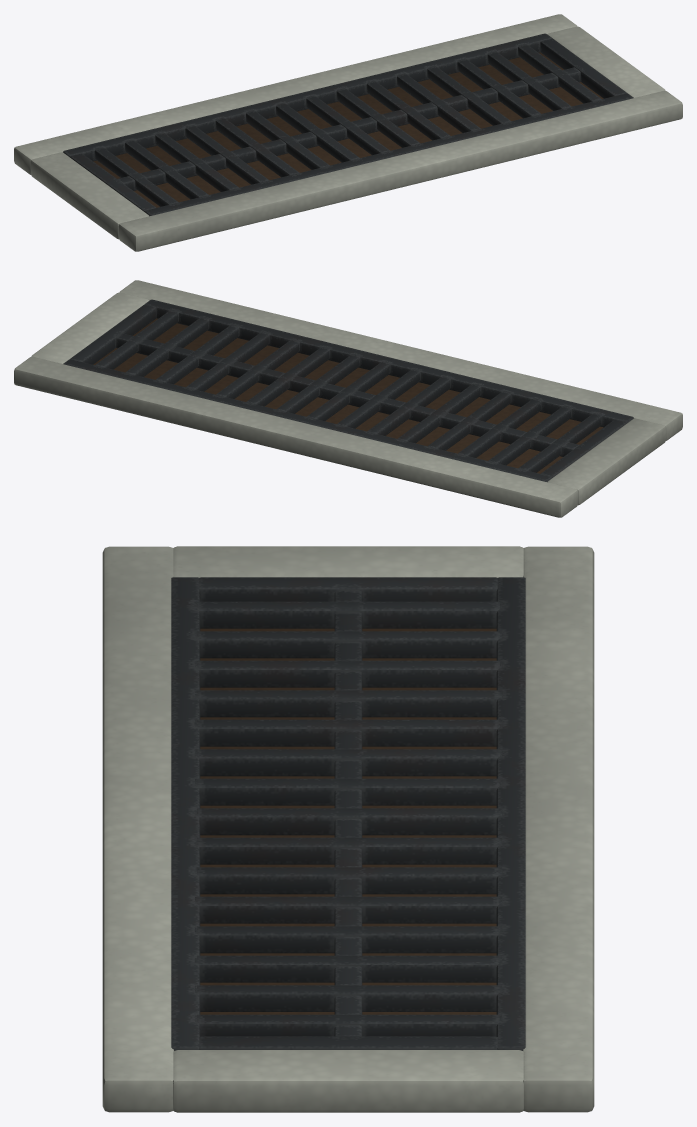
The model's file is CTCC_ENV_DrainGrateAndCurb.fbx.
3 views of the same model, one above another, from view 1: azimuth 30°, elevation 25°; view 2: azimuth 150°, elevation 25°; view 3: azimuth 270°, elevation 25° (orthographic). The views are drawn at different scales.
Parts seen in each view (by area): view 1: CTCC_ENV_DrainGrateAndCurb_LOD0; view 2: CTCC_ENV_DrainGrateAndCurb_LOD0; view 3: CTCC_ENV_DrainGrateAndCurb_LOD0.
Part boxes in pixels (x1=…): CTCC_ENV_DrainGrateAndCurb_LOD0: x1=14, y1=14, x2=682, y2=251; CTCC_ENV_DrainGrateAndCurb_LOD0: x1=14, y1=280, x2=682, y2=517; CTCC_ENV_DrainGrateAndCurb_LOD0: x1=102, y1=546, x2=594, y2=1112.
Size of what is drawn, in the model's own units: 1.18 by 0.0555 by 0.458.
